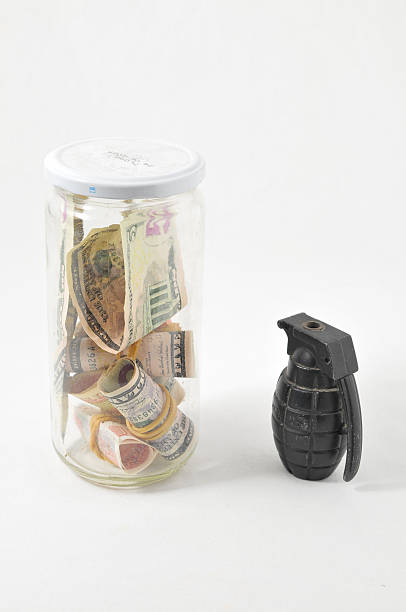e1: (271, 314, 364, 478)
